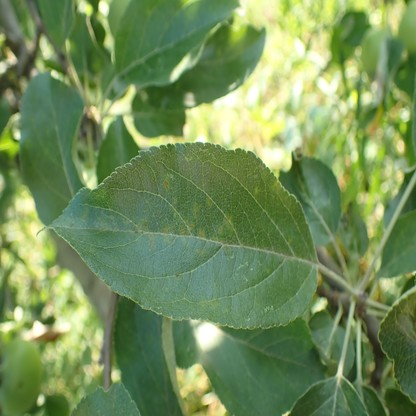powdery_mildew: (397, 313, 416, 344)
scab: (97, 214, 117, 234), (178, 221, 193, 243), (199, 297, 221, 309), (162, 227, 175, 242), (223, 243, 234, 258), (135, 221, 147, 233), (82, 205, 90, 219), (192, 201, 199, 217), (223, 215, 231, 227), (148, 232, 154, 247), (197, 227, 206, 237), (206, 195, 212, 209), (163, 180, 169, 192), (215, 227, 223, 236)
